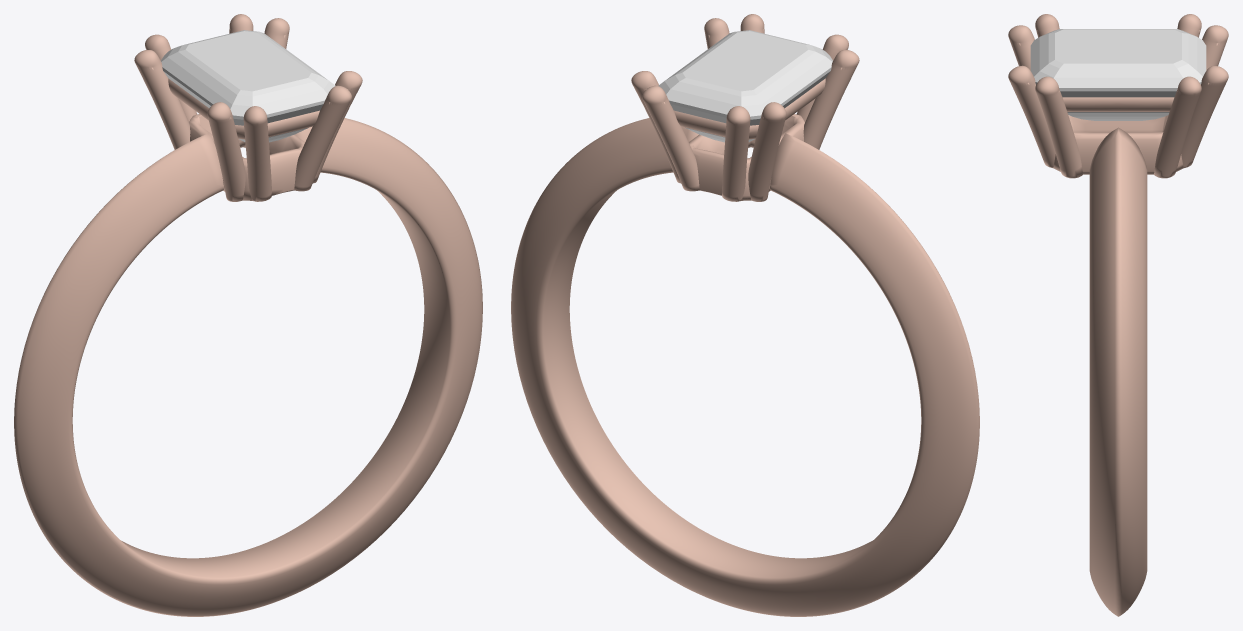
The model's file is diamond-emerald-rosegold-8prong-knifeedge-solitaire.glb.
3 views of the same model, side by side, from view 1: azimuth 30°, elevation 25°; view 2: azimuth 150°, elevation 25°; view 3: azimuth 270°, elevation 25° (orthographic).
Visible parts, largest first — view 1: metal.003, stone; view 2: metal.003, stone; view 3: metal.003, stone.
Boxes of the visible parts, left/top/right/bottom form: metal.003: left=14, top=14, right=482, bottom=616; stone: left=161, top=30, right=335, bottom=142; metal.003: left=511, top=14, right=979, bottom=616; stone: left=658, top=30, right=832, bottom=142; metal.003: left=1008, top=14, right=1228, bottom=616; stone: left=1030, top=29, right=1206, bottom=120.
Bounding box in the file's own units: 20.5 × 22.94 × 8.4.
